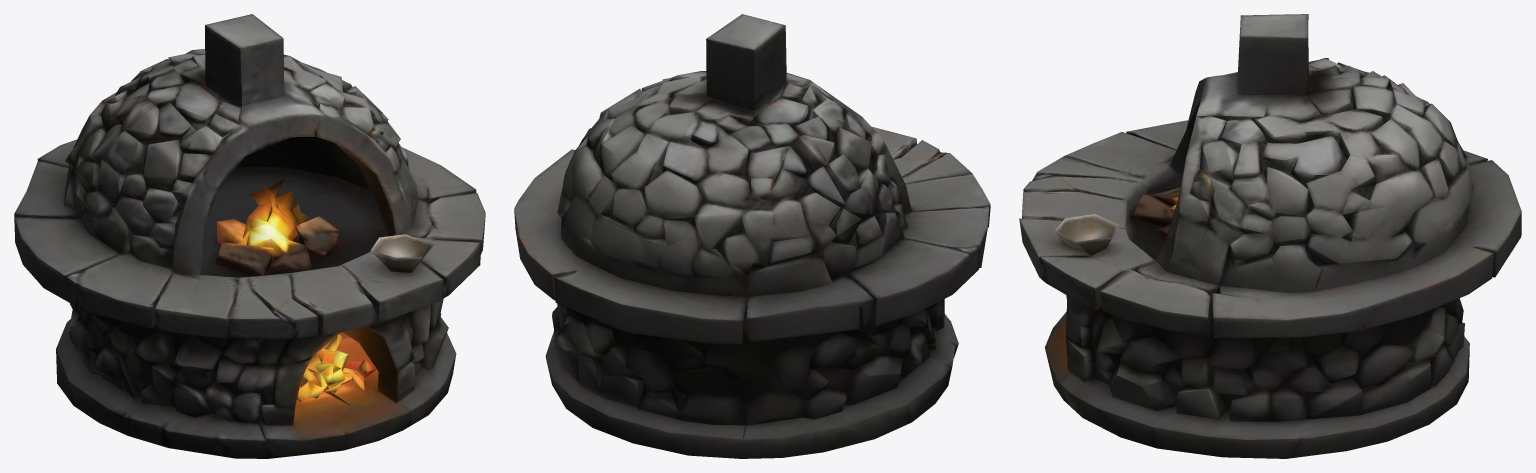
File: stoveHearth.glb
The picture shows the model from 3 angles, left to right: view 1: azimuth 30°, elevation 25°; view 2: azimuth 150°, elevation 25°; view 3: azimuth 270°, elevation 25°; orthographic projection. The views are drawn at different scales.
Visible parts, largest first — view 1: model; view 2: model; view 3: model.
Part boxes in pixels (x1,y1,x2,y2): model: [14, 14, 485, 458]; model: [514, 14, 990, 458]; model: [1019, 14, 1521, 458].
Bounding box in the file's own units: 1.82 × 1.45 × 1.9.
Materials: 1 (1 with a texture image).
